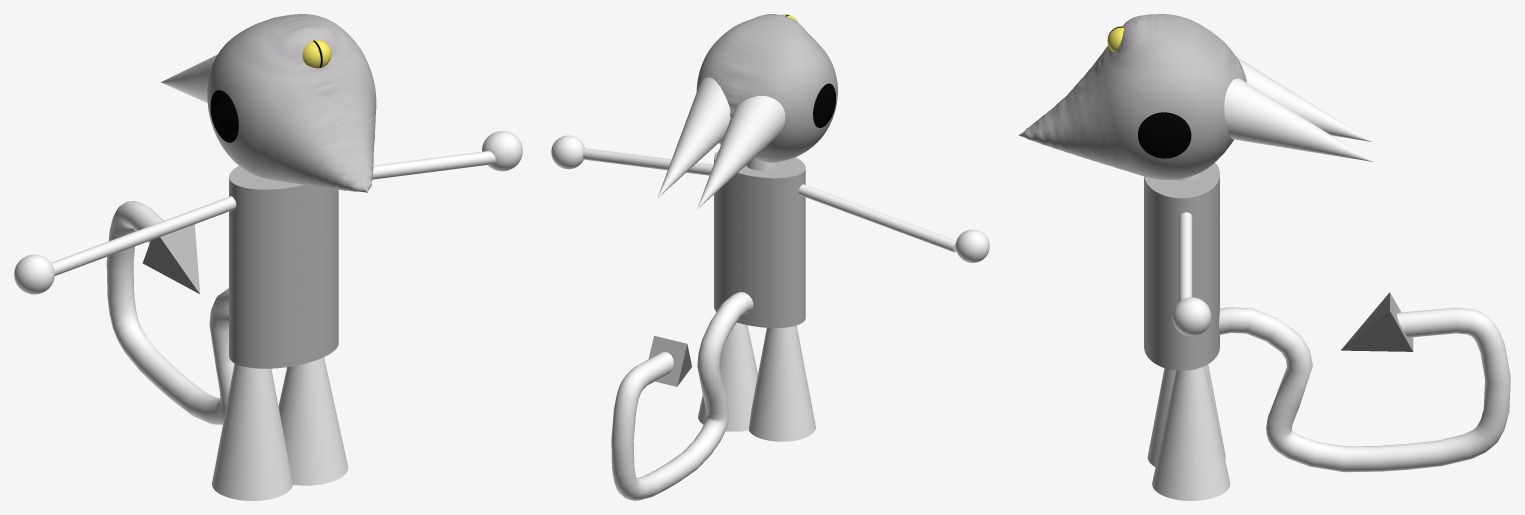
The model's file is BIRBBBBBBB.fbx.
3 renders of one model, left to right at view 1: azimuth 30°, elevation 25°; view 2: azimuth 150°, elevation 25°; view 3: azimuth 270°, elevation 25°, orthographic. The views are drawn at different scales.
Parts seen in each view (by area): view 1: node_id12, node_id33, node_id48, node_id45, node_id42, node_id36, node_id51, node_id24, node_id39, node_id21, node_id9, node_id18 (+1 smaller); view 2: node_id33, node_id12, node_id48, node_id45, node_id9, node_id6, node_id42, node_id36, node_id24, node_id51, node_id39, node_id21 (+1 smaller); view 3: node_id12, node_id48, node_id33, node_id42, node_id6, node_id51, node_id9, node_id27, node_id45, node_id21, node_id24.
Part boxes in pixels (box(x1,y1,x2,y2)): node_id12: box(207, 14, 376, 192); node_id33: box(229, 166, 338, 368); node_id48: box(106, 201, 234, 424); node_id45: box(212, 363, 292, 500); node_id42: box(278, 357, 348, 485); node_id36: box(51, 196, 236, 275); node_id51: box(142, 224, 200, 293); node_id24: box(372, 151, 495, 179); node_id39: box(14, 254, 54, 294); node_id21: box(482, 131, 522, 171); node_id9: box(161, 54, 217, 102); node_id18: box(210, 90, 238, 142); node_id33: box(714, 151, 805, 327); node_id12: box(696, 14, 837, 162); node_id48: box(611, 292, 753, 500); node_id45: box(749, 325, 815, 441); node_id9: box(697, 96, 785, 209); node_id6: box(657, 77, 730, 198); node_id42: box(698, 322, 757, 431); node_id36: box(798, 184, 956, 252); node_id24: box(583, 148, 713, 175); node_id51: box(648, 335, 691, 386); node_id39: box(955, 229, 989, 262); node_id21: box(551, 135, 584, 169); node_id12: box(1018, 14, 1246, 179); node_id48: box(1219, 307, 1510, 472); node_id33: box(1144, 163, 1219, 370); node_id42: box(1152, 366, 1230, 500); node_id6: box(1224, 78, 1373, 161); node_id51: box(1341, 292, 1413, 351); node_id9: box(1237, 57, 1372, 141); node_id27: box(1138, 112, 1191, 158); node_id45: box(1147, 364, 1225, 466); node_id21: box(1172, 297, 1211, 336); node_id24: box(1179, 212, 1192, 301).
Size of the model in its own units: 0.512 by 0.4472 by 0.4438.
16 materials, 6 textured.
